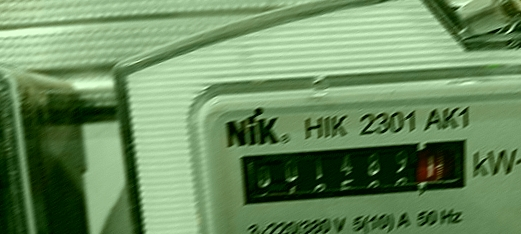0: (254, 162, 272, 189), (281, 156, 299, 182)
1: (310, 152, 326, 182), (422, 148, 437, 179)
4: (337, 151, 355, 178)
8: (363, 148, 382, 177)
9: (392, 148, 409, 174)
screen: (224, 123, 486, 222)
